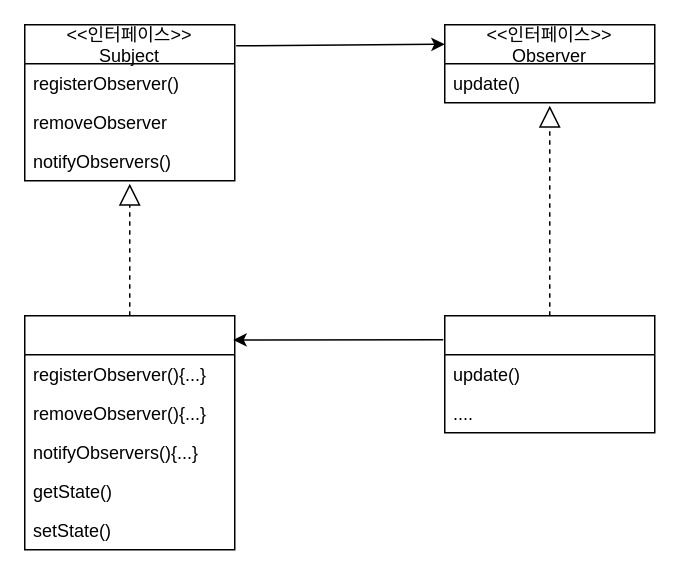
Image size: 680x575. Some labels were removed from this diagram. Here are the shapes that lost their labels. From the top down, the box of each, then its label:
(443, 314, 655, 433): ConcreteObserver
(23, 314, 235, 550): ConcreteSubject
